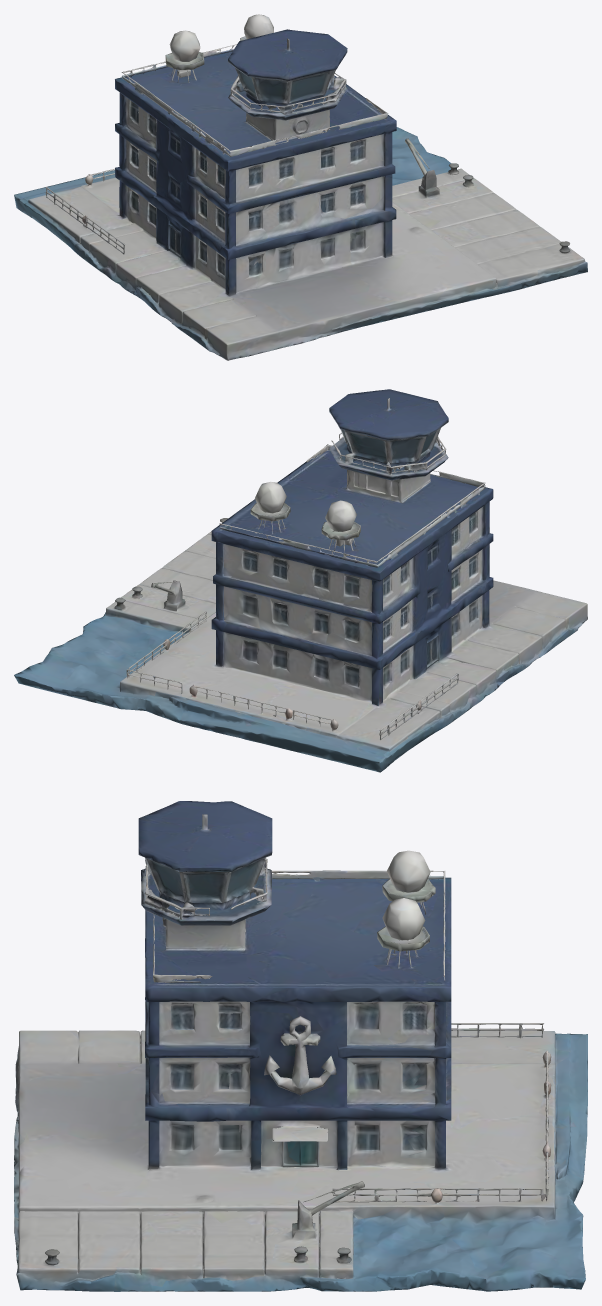
The model's file is predio_marinha.glb.
3 views of the same model, one above another, from view 1: azimuth 30°, elevation 25°; view 2: azimuth 150°, elevation 25°; view 3: azimuth 270°, elevation 25° (orthographic). The views are drawn at different scales.
Visible parts, largest first — view 1: tripo_node_56c1150d-ba5b-4649-91b6-dac0a8da47f3; view 2: tripo_node_56c1150d-ba5b-4649-91b6-dac0a8da47f3; view 3: tripo_node_56c1150d-ba5b-4649-91b6-dac0a8da47f3.
Boxes of the visible parts, x1,y1,x2,y2 form: tripo_node_56c1150d-ba5b-4649-91b6-dac0a8da47f3: (14,14,587,360); tripo_node_56c1150d-ba5b-4649-91b6-dac0a8da47f3: (14,389,587,772); tripo_node_56c1150d-ba5b-4649-91b6-dac0a8da47f3: (14,801,587,1291).
Size of the model in its own units: 1 by 0.623 by 1.
Materials: 1 (1 with a texture image).
